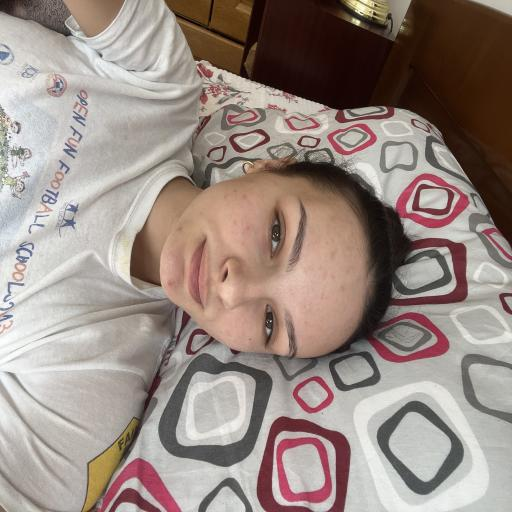marija: (160, 173, 388, 361)
